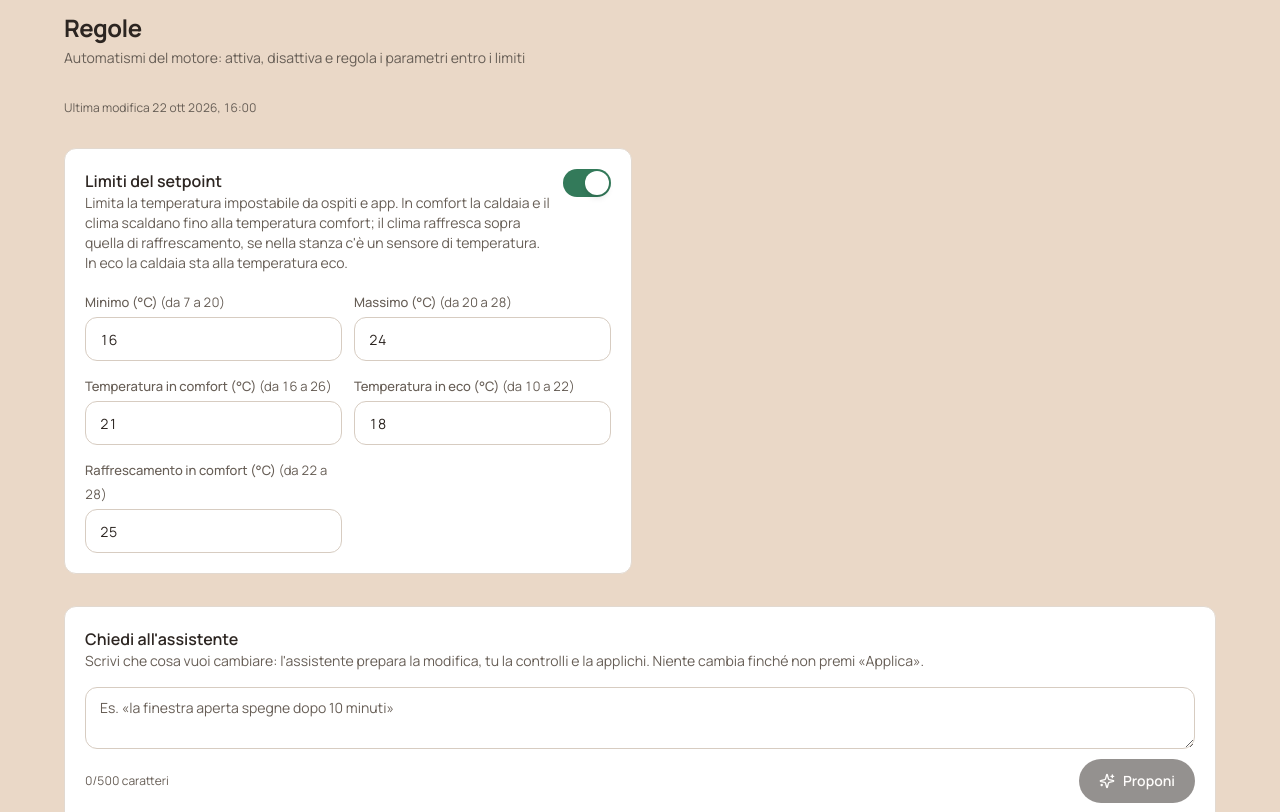
Test: Regole: le temperature delle modalità (lotto 30) › prima del salvataggio, eco_celsius a 22: «La temperatura eco non può superare quella comfort», e niente salvataggio
The width and height of the screenshot is (1280, 812).
Check: the element with test id "rule-card-setpoint_limits" is shown, box [64,148,632,574]
Replace the text in the number field labelled "Temperatura in eco (°C) (da 10 a 22)" with "22" at x=482, y=423, box [354,401,611,445]
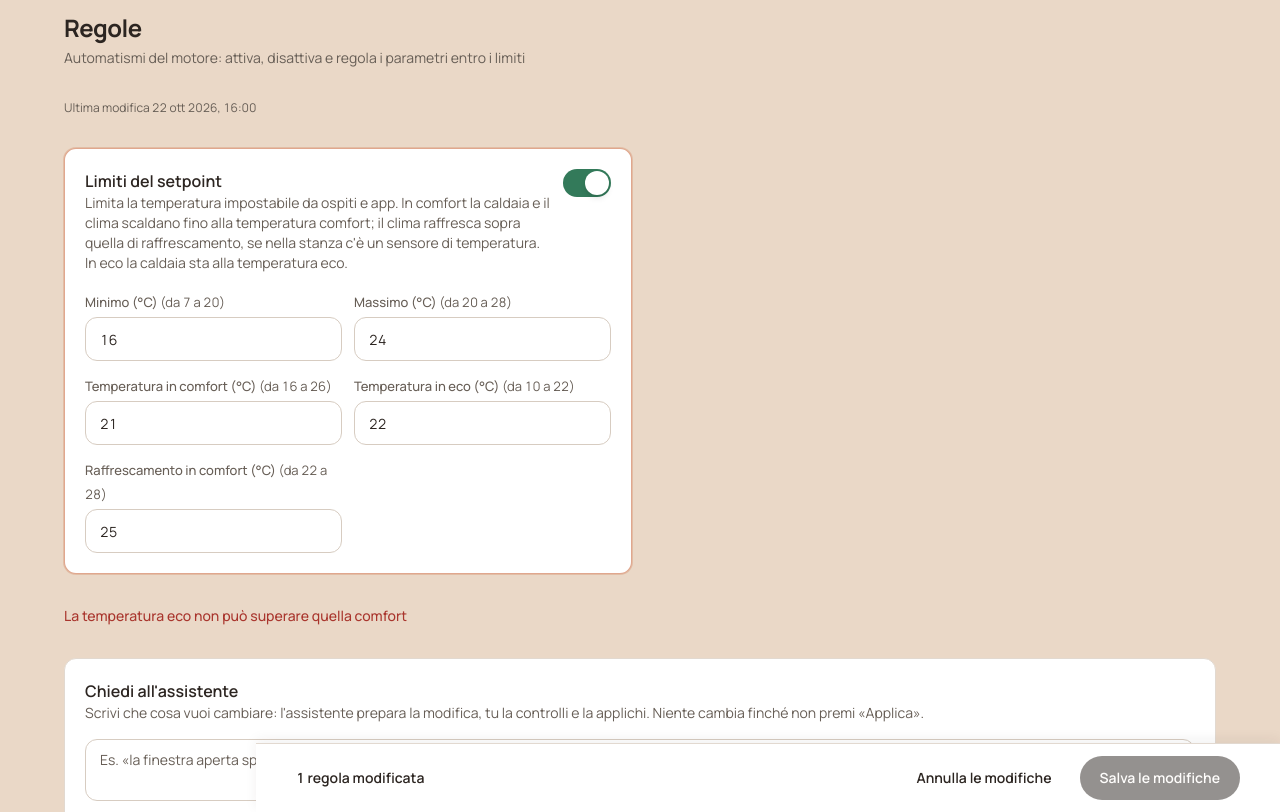
Check: the text with test id "rules-range-error" reads "La temperatura eco non può superare quella comfort", box [64,606,407,625]
Check: the button with test id "rules-save-btn" is disabled, box [1080,756,1240,800]
